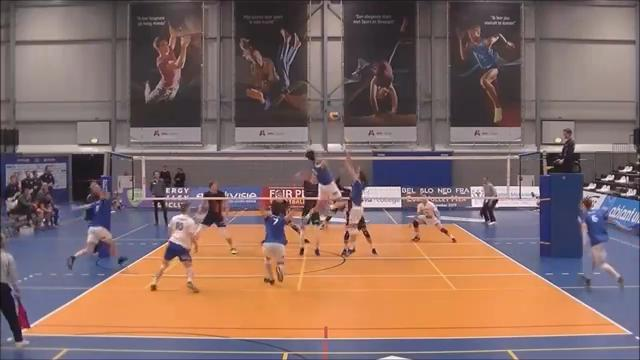alzata: (337, 148, 368, 262)
